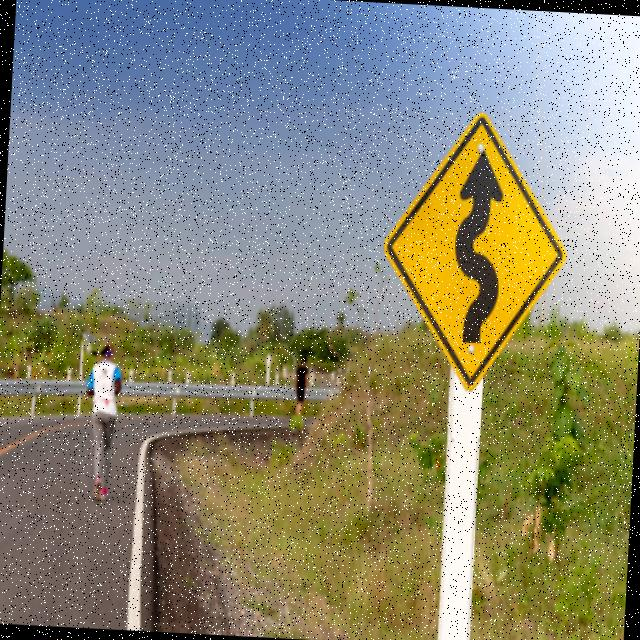left_sharp_curve: (374, 92, 584, 397)
